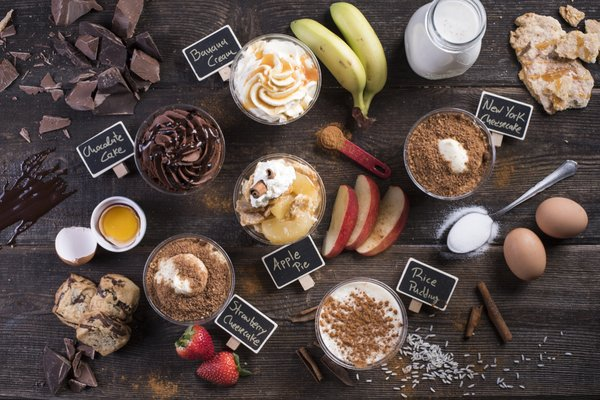pasta: (289, 0, 389, 121), (289, 16, 365, 106), (328, 0, 388, 114)
pizza: (403, 0, 487, 80), (55, 195, 147, 262), (90, 195, 147, 253)
sushi: (226, 33, 323, 126), (315, 278, 408, 370), (143, 234, 236, 326), (133, 103, 226, 193)
